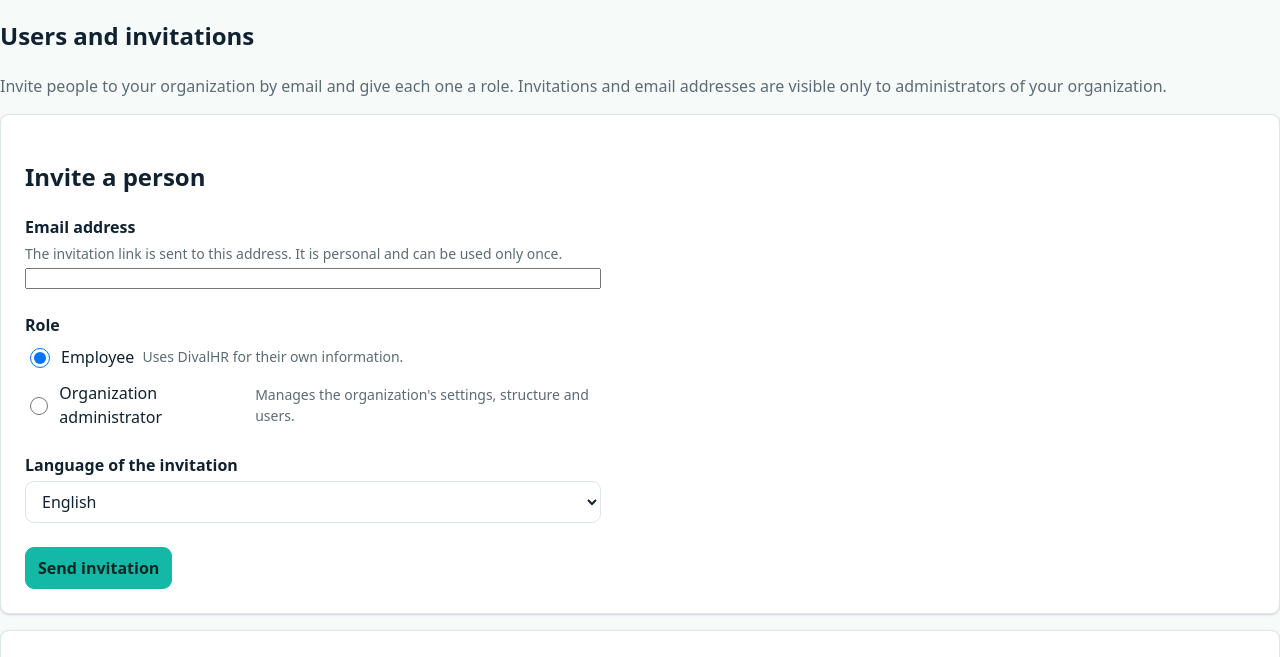
Test: users and invitations (en) › validates locally and maps an already pending invitation to the email field
The image size is (1280, 657).
Click the button "Send invitation" at (99, 568), box [25,547,172,589]
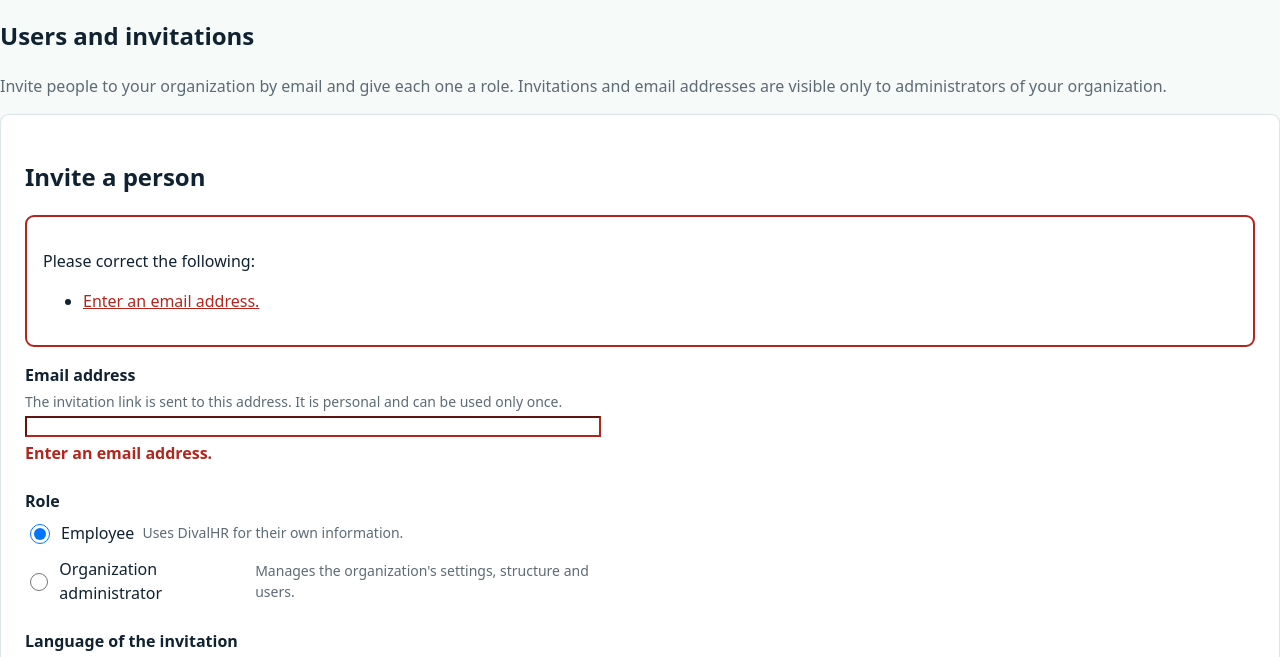
Result: the element with test id "form-summary" shows "Enter an email address." at [83,290,259,312]
Type "dup@example.cd" into the field labelled "Email address" at (313, 426), box [25,416,601,437]
(page scrolled)
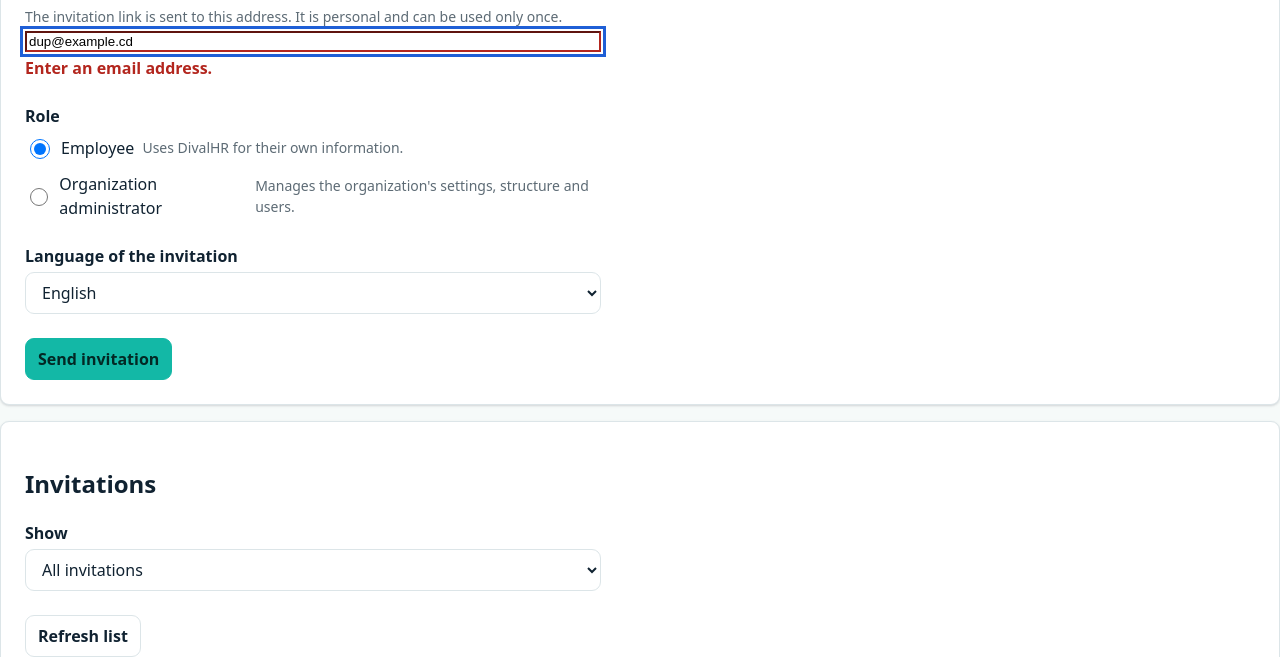
Click the button "Send invitation" at (99, 359), box [25,338,172,380]
(page scrolled)
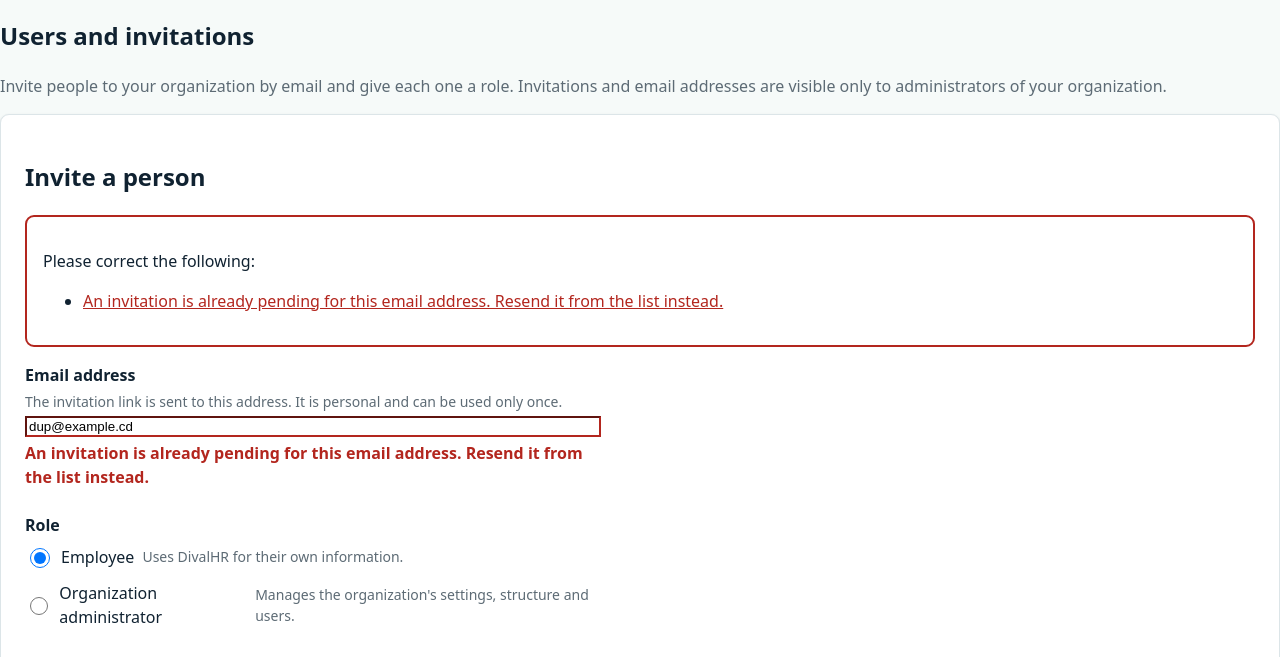
Result: the element with test id "form-summary" shows "An invitation is already pending for this email address. Resend it from the list instead." at [83,290,723,312]
